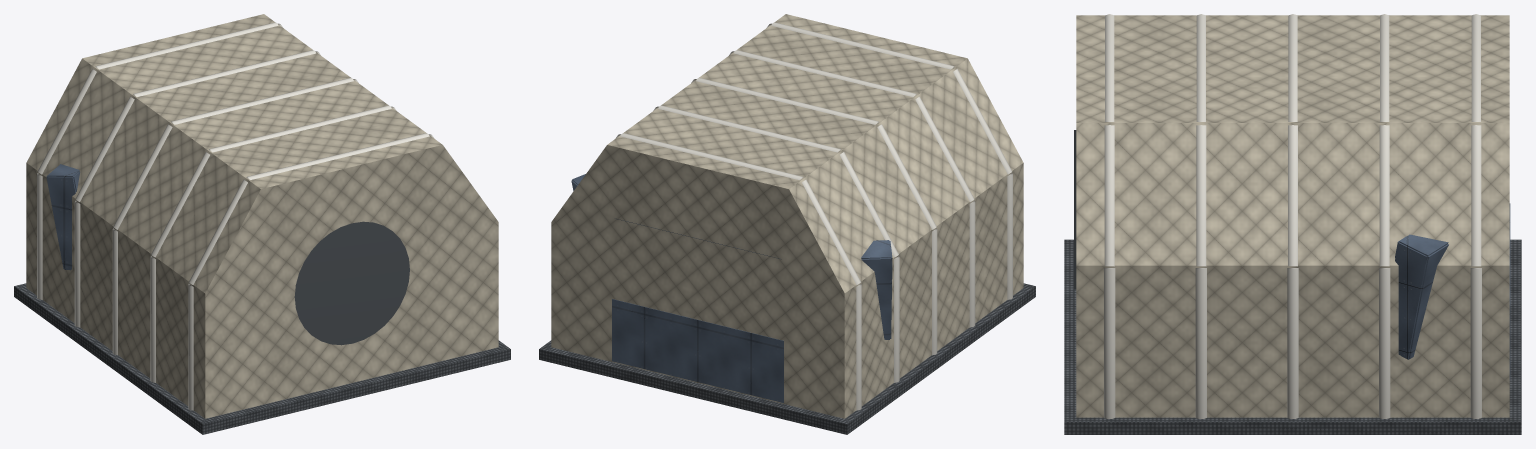
File: cockpit_dd84_destroyer.glb
3 views of the same model, side by side, from view 1: azimuth 30°, elevation 25°; view 2: azimuth 150°, elevation 25°; view 3: azimuth 270°, elevation 25° (orthographic). The views are drawn at different scales.
Parts seen in each view (by area): view 1: DD84_Quilted_Interior_Walls, DD84_PressureHull_Ribs, Rear_PressureHatch_Frame, DD84_Floor_Deck, DD84_Console_Cabinets; view 2: DD84_Quilted_Interior_Walls, DD84_Console_Cabinets, DD84_PressureHull_Ribs, DD84_Floor_Deck; view 3: DD84_Quilted_Interior_Walls, DD84_PressureHull_Ribs, DD84_Floor_Deck, DD84_Console_Cabinets, Rear_PressureHatch_Frame.
Part boxes in pixels (bbox=[...]): DD84_Quilted_Interior_Walls: bbox=[26, 14, 498, 418]; DD84_PressureHull_Ribs: bbox=[37, 22, 433, 410]; Rear_PressureHatch_Frame: bbox=[294, 221, 409, 345]; DD84_Floor_Deck: bbox=[14, 283, 510, 434]; DD84_Console_Cabinets: bbox=[46, 164, 80, 270]; DD84_Quilted_Interior_Walls: bbox=[551, 14, 1023, 418]; DD84_Console_Cabinets: bbox=[571, 174, 892, 402]; DD84_PressureHull_Ribs: bbox=[616, 22, 1012, 410]; DD84_Floor_Deck: bbox=[539, 283, 1035, 434]; DD84_Quilted_Interior_Walls: bbox=[1076, 15, 1509, 417]; DD84_PressureHull_Ribs: bbox=[1104, 14, 1481, 418]; DD84_Floor_Deck: bbox=[1064, 239, 1521, 434]; DD84_Console_Cabinets: bbox=[1395, 203, 1510, 379]; Rear_PressureHatch_Frame: bbox=[1074, 130, 1076, 289].
Bounding box in the file's own units: 3.76 × 2.56 × 3.83.
31 materials, 15 textured.
